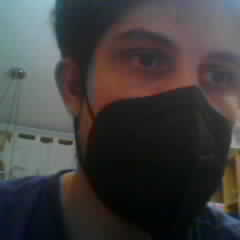with_mask: (86, 1, 240, 224)
